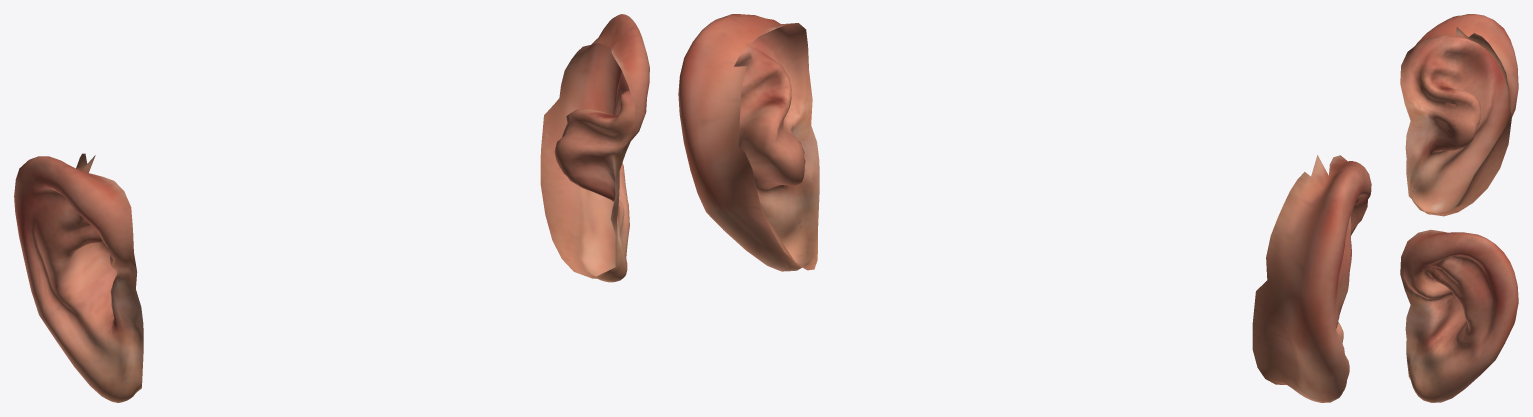
The model's file is 男性_感觉系统_听觉系统.fbx.
3 views of the same model, side by side, from view 1: azimuth 30°, elevation 25°; view 2: azimuth 150°, elevation 25°; view 3: azimuth 270°, elevation 25° (orthographic). The views are drawn at different scales.
Visible parts, largest first — view 1: 男性_感觉系统_听觉系统; view 2: 男性_感觉系统_听觉系统; view 3: 男性_感觉系统_听觉系统.
Part boxes in pixels (<box>): 男性_感觉系统_听觉系统: <box>14,14,649,402</box>; 男性_感觉系统_听觉系统: <box>678,14,1371,402</box>; 男性_感觉系统_听觉系统: <box>1400,14,1518,402</box>.
Size of the model in its own units: 18.63 by 6.97 by 4.05.
